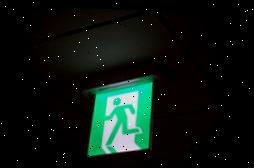emergency_exit: (85, 74, 157, 159)
